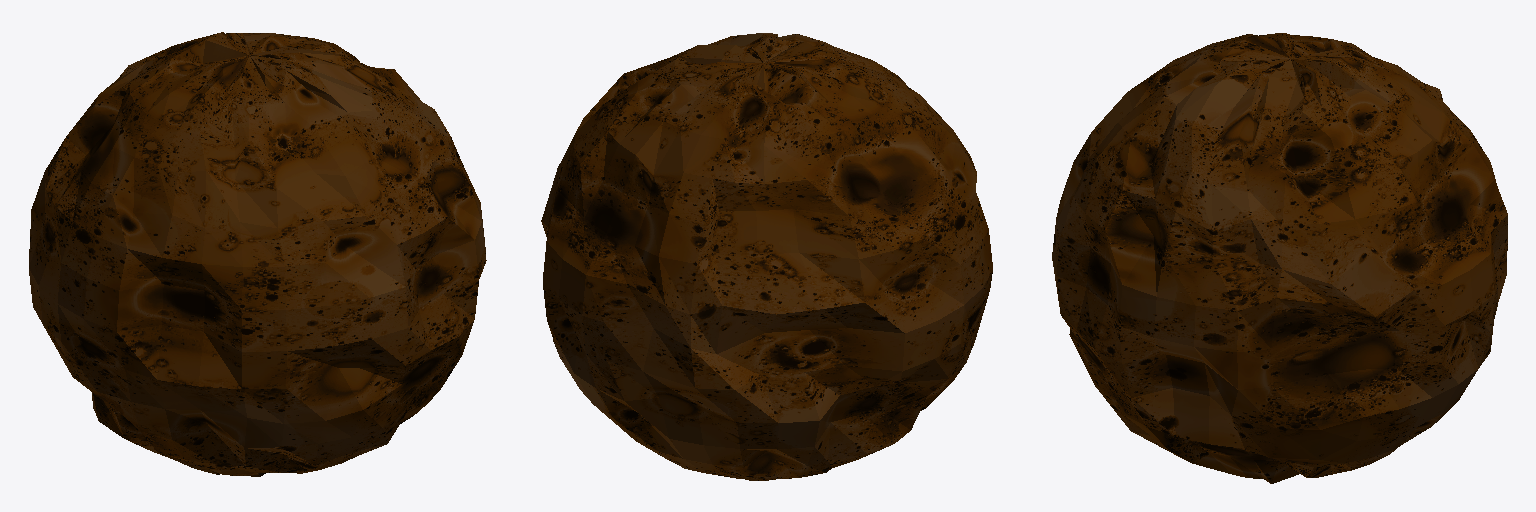
3 views of the same model, side by side, from view 1: azimuth 30°, elevation 25°; view 2: azimuth 150°, elevation 25°; view 3: azimuth 270°, elevation 25° (orthographic).
Visible parts, largest first — view 1: 球; view 2: 球; view 3: 球.
Boxes of the visible parts, <box> form: 球: <box>29,32,486,476</box>; 球: <box>541,33,992,480</box>; 球: <box>1052,33,1507,483</box>.
Bounding box in the file's own units: 2 × 1.94 × 2.
1 materials, 1 textured.